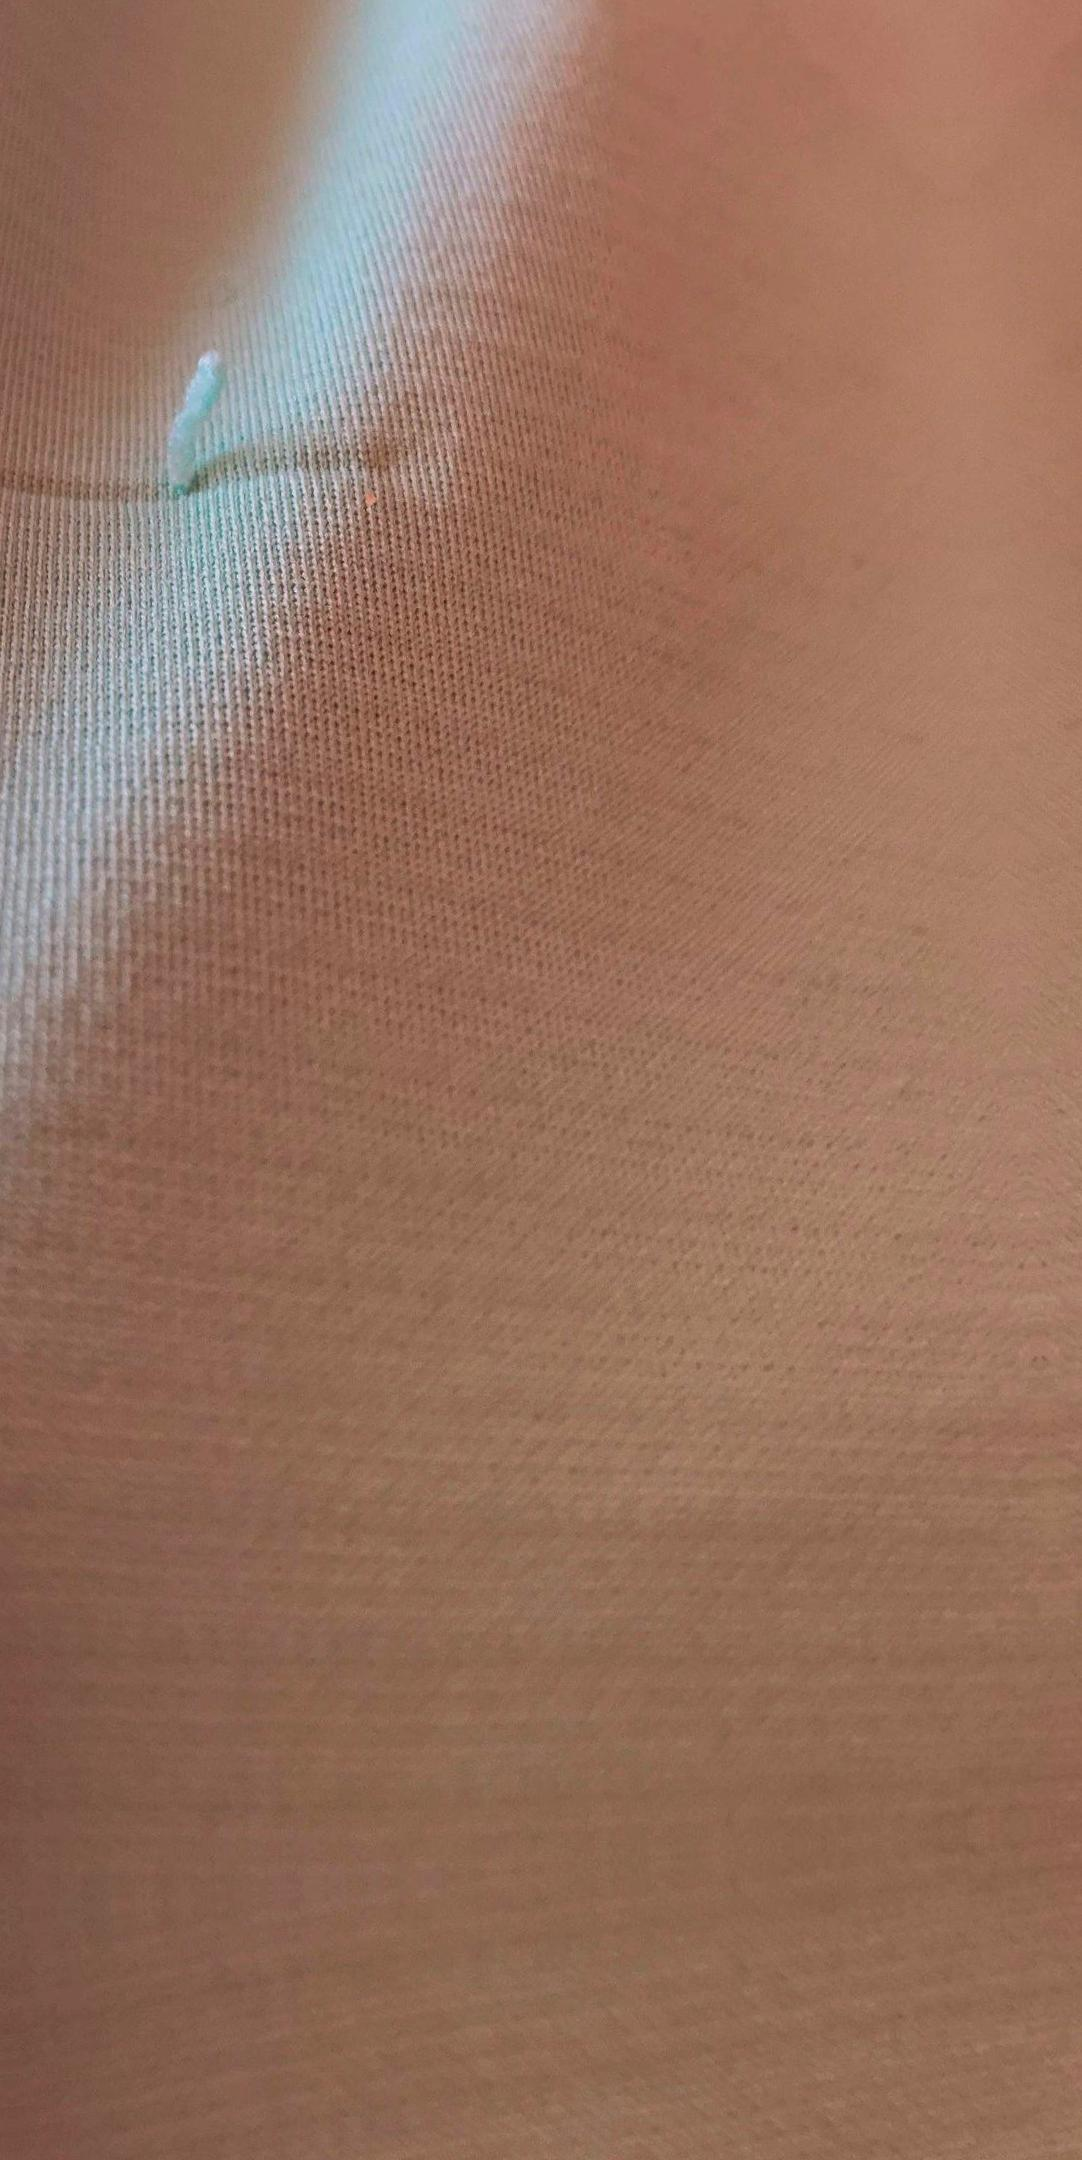snag: (130, 276, 291, 539)
